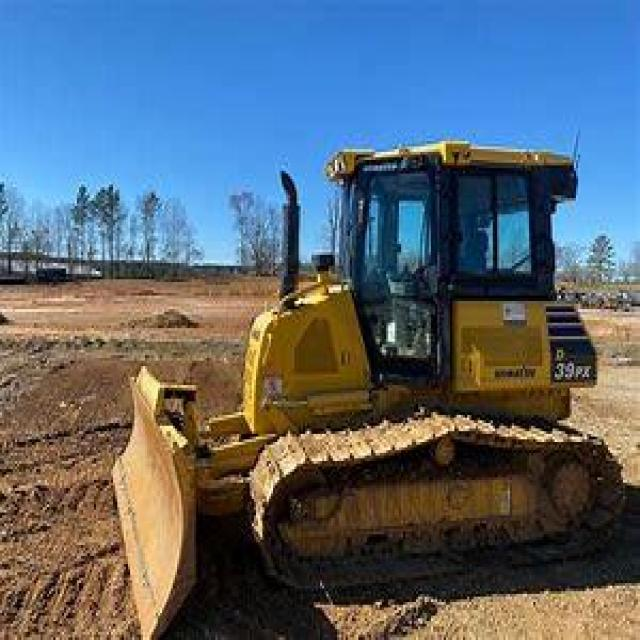Bulldozer: (86, 117, 630, 637)
